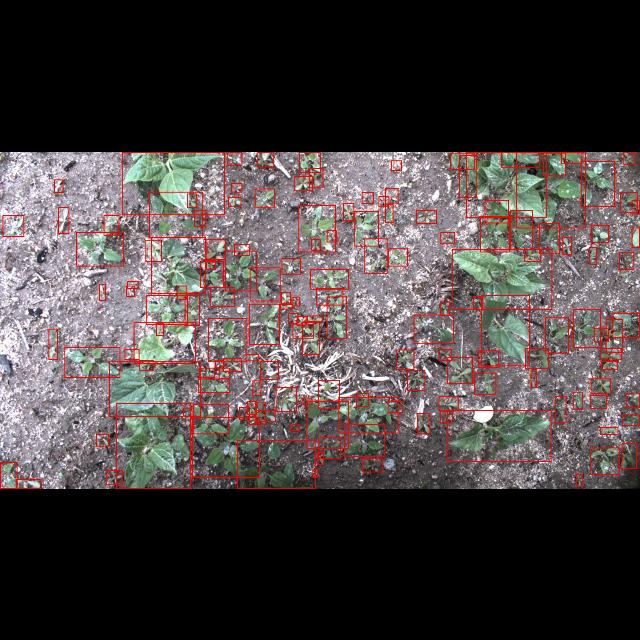crop: (122, 152, 224, 214), (116, 404, 190, 488), (452, 249, 552, 309), (466, 151, 546, 217), (448, 410, 550, 460), (110, 362, 200, 416), (481, 294, 529, 366), (151, 236, 205, 292), (134, 322, 196, 362), (501, 152, 539, 166)
weed: (516, 151, 586, 227), (192, 417, 260, 477), (237, 440, 315, 488), (150, 191, 202, 237), (338, 397, 398, 433), (307, 400, 349, 448), (298, 204, 336, 252), (64, 347, 120, 377), (208, 317, 246, 361), (76, 231, 124, 265), (582, 160, 614, 206), (345, 424, 385, 456), (146, 294, 188, 324), (249, 304, 279, 344), (226, 250, 256, 290), (414, 314, 454, 342), (574, 308, 600, 348), (194, 404, 228, 434), (480, 216, 510, 250), (250, 268, 280, 300), (355, 210, 379, 246), (327, 296, 347, 338), (510, 210, 532, 248), (590, 448, 620, 474), (311, 268, 349, 288), (365, 238, 387, 272), (546, 318, 568, 352), (459, 154, 476, 196), (447, 357, 473, 383), (613, 312, 639, 338), (539, 222, 559, 254), (318, 379, 339, 408), (200, 261, 223, 287), (302, 322, 320, 354), (606, 318, 622, 352), (485, 200, 509, 222), (2, 214, 24, 236), (474, 372, 496, 394), (543, 152, 565, 174), (210, 286, 234, 306), (184, 295, 200, 325), (276, 387, 296, 411), (318, 437, 339, 459), (198, 378, 230, 392), (316, 288, 344, 304), (1, 462, 18, 488), (526, 348, 548, 368), (300, 151, 320, 171), (450, 152, 474, 168), (207, 239, 226, 259), (255, 188, 275, 206), (388, 248, 408, 266), (396, 349, 414, 369), (407, 370, 425, 390), (620, 192, 638, 212), (622, 444, 636, 468), (260, 361, 278, 379), (478, 350, 498, 366), (146, 239, 160, 261), (48, 329, 58, 359), (282, 257, 300, 273), (592, 224, 608, 242), (104, 214, 118, 234), (362, 458, 382, 472), (293, 323, 313, 337), (438, 396, 458, 410), (591, 378, 611, 392), (600, 348, 622, 360), (58, 207, 68, 233), (556, 396, 566, 422), (618, 252, 634, 268), (294, 176, 312, 190), (309, 168, 323, 186), (416, 210, 436, 222), (418, 413, 430, 433), (106, 470, 122, 484), (258, 152, 274, 166), (590, 394, 606, 408), (255, 402, 265, 424), (17, 479, 41, 488), (223, 358, 241, 370), (562, 152, 582, 162), (256, 411, 274, 422), (342, 202, 353, 220), (626, 393, 640, 407), (594, 327, 608, 341), (194, 210, 206, 226), (525, 249, 541, 261), (622, 415, 640, 425), (562, 236, 572, 254), (234, 243, 250, 254), (228, 152, 242, 164), (388, 400, 402, 412), (386, 188, 398, 202), (441, 231, 455, 243), (601, 360, 617, 370), (632, 227, 640, 247), (95, 434, 108, 446), (438, 348, 452, 359), (357, 394, 369, 406), (385, 204, 393, 222), (440, 411, 452, 423), (574, 391, 582, 409), (600, 426, 618, 434), (589, 246, 597, 264), (624, 151, 636, 163), (125, 349, 139, 359), (139, 360, 153, 370), (200, 367, 214, 377), (440, 301, 450, 315), (239, 406, 249, 419), (253, 380, 261, 396), (247, 402, 257, 414), (230, 182, 242, 192), (473, 296, 483, 308), (54, 178, 62, 192), (178, 285, 186, 299), (188, 193, 196, 207), (362, 192, 373, 202), (229, 197, 241, 206), (312, 238, 321, 250), (219, 368, 229, 378), (327, 230, 337, 240), (379, 196, 389, 206), (288, 313, 298, 323), (391, 159, 401, 169), (99, 283, 105, 299), (156, 323, 164, 335), (530, 371, 536, 387), (183, 408, 193, 417), (308, 315, 322, 321), (632, 199, 638, 213), (128, 280, 138, 288), (126, 286, 134, 296), (282, 292, 290, 302), (296, 316, 306, 324), (214, 360, 223, 368), (246, 354, 258, 360), (207, 260, 216, 268), (317, 452, 323, 464), (576, 474, 582, 486), (290, 424, 300, 430), (302, 398, 312, 404), (281, 304, 293, 308), (312, 469, 318, 477), (292, 297, 298, 305), (250, 418, 256, 424)
